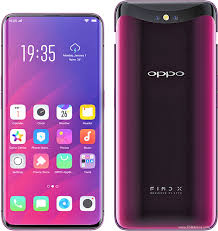oppo: (113, 1, 216, 231), (1, 10, 105, 228)
